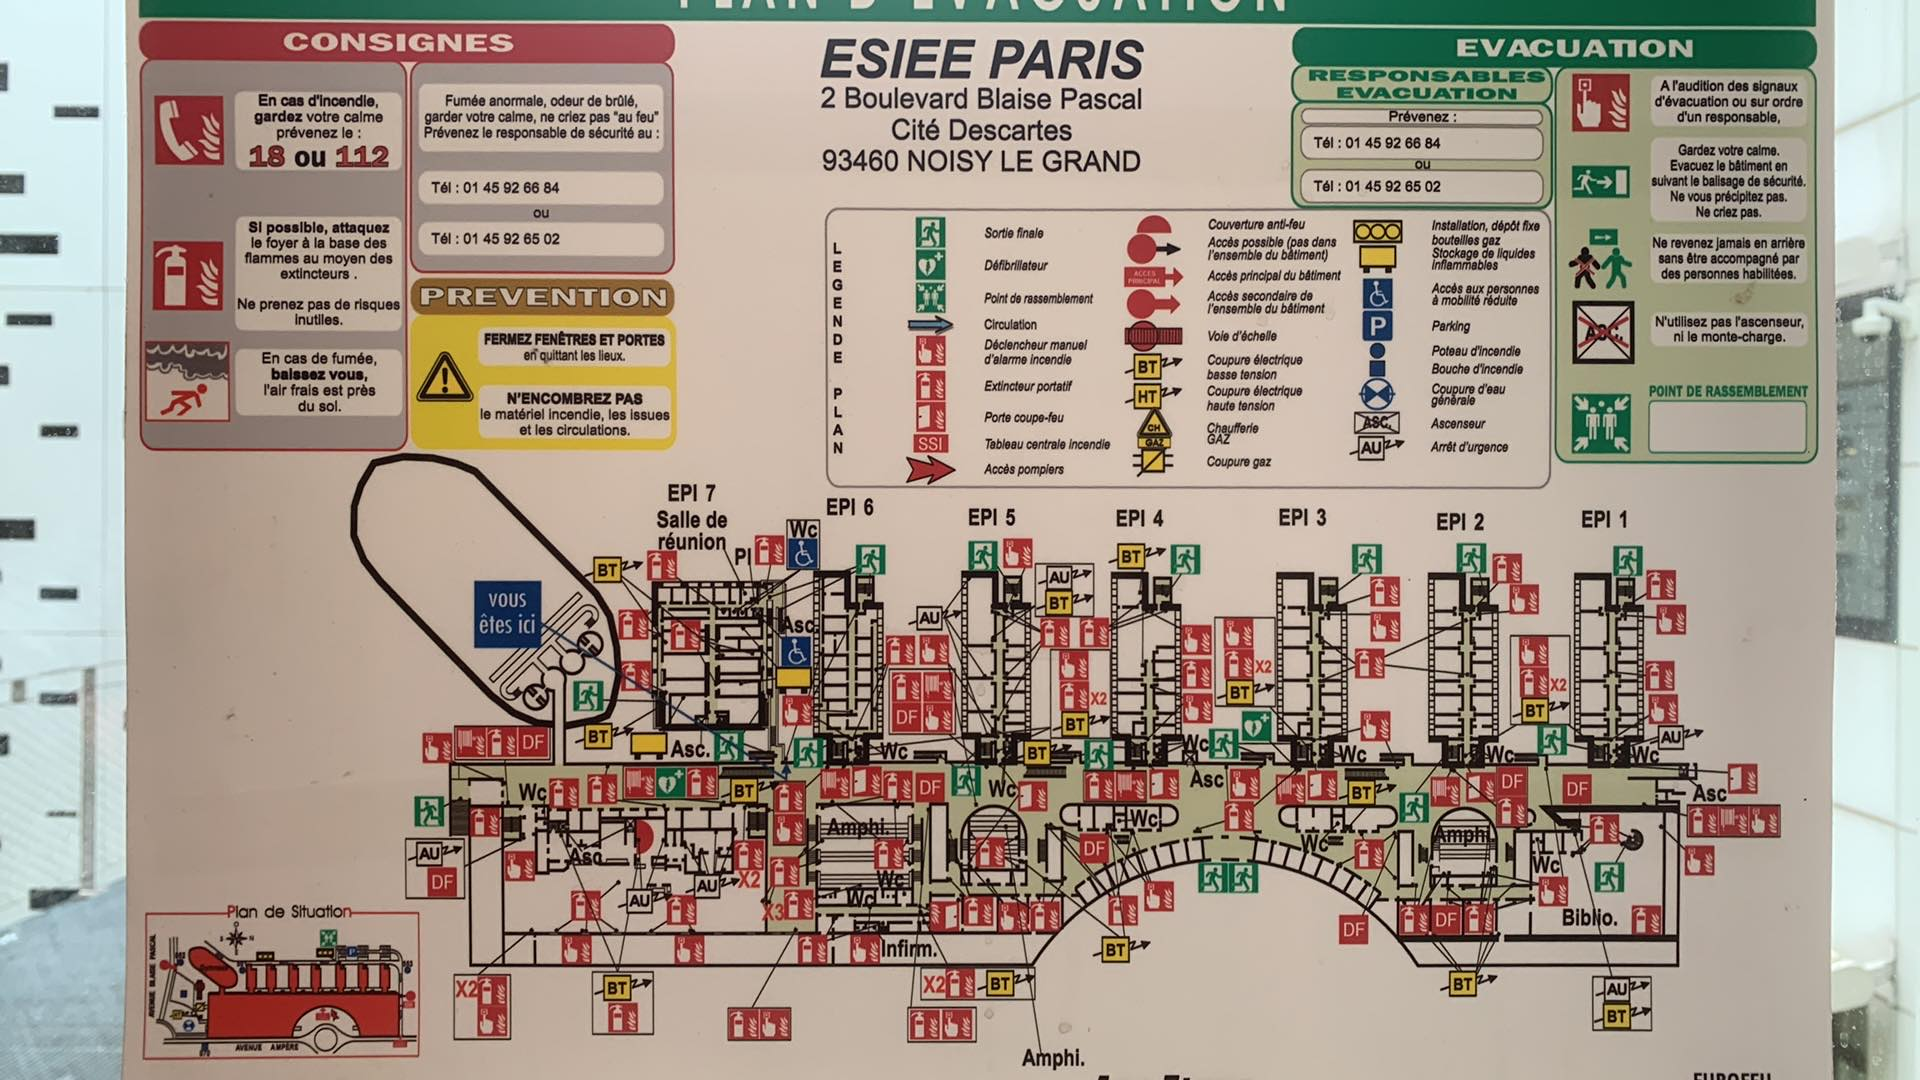legend: (825, 198, 1561, 500)
plan: (344, 447, 1735, 1031)
